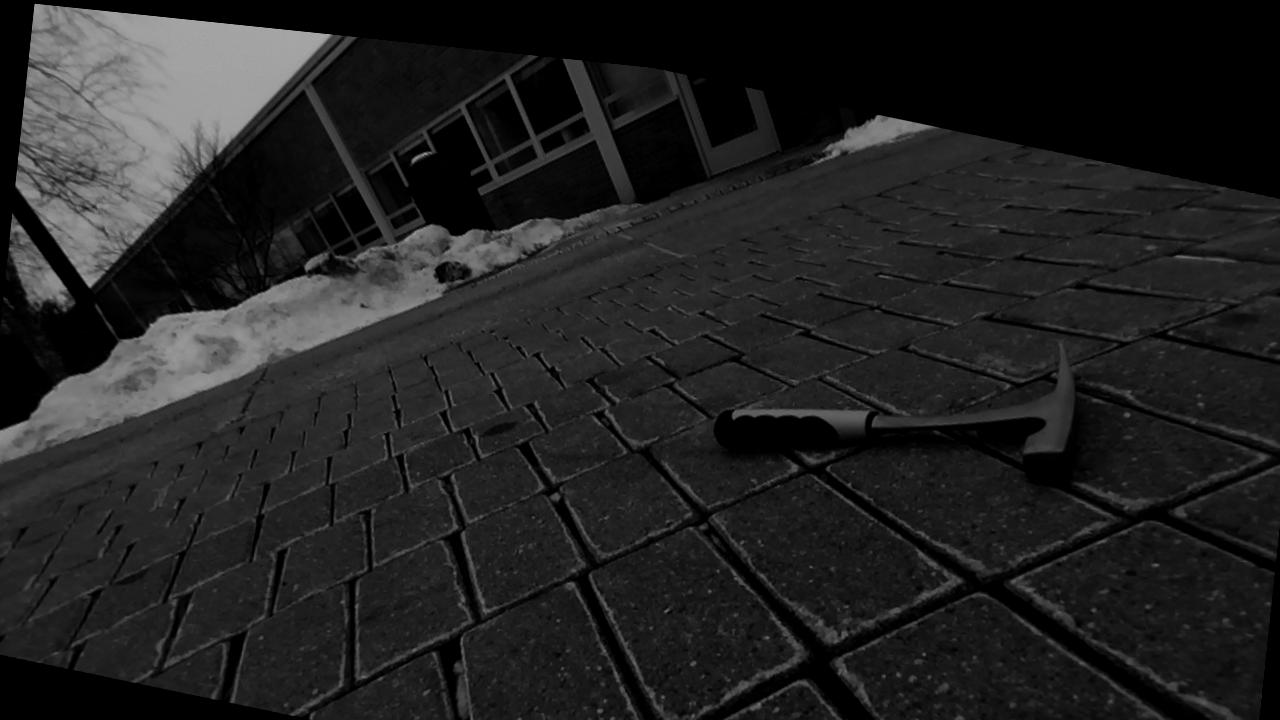pick: (715, 345, 1078, 482)
